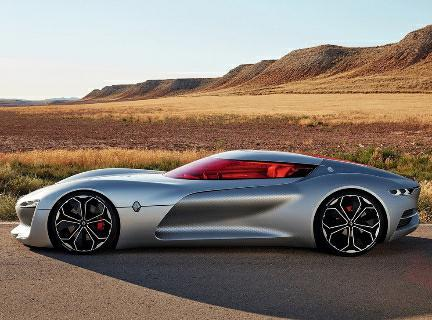雷诺-TREZOR: (10, 145, 432, 260)
